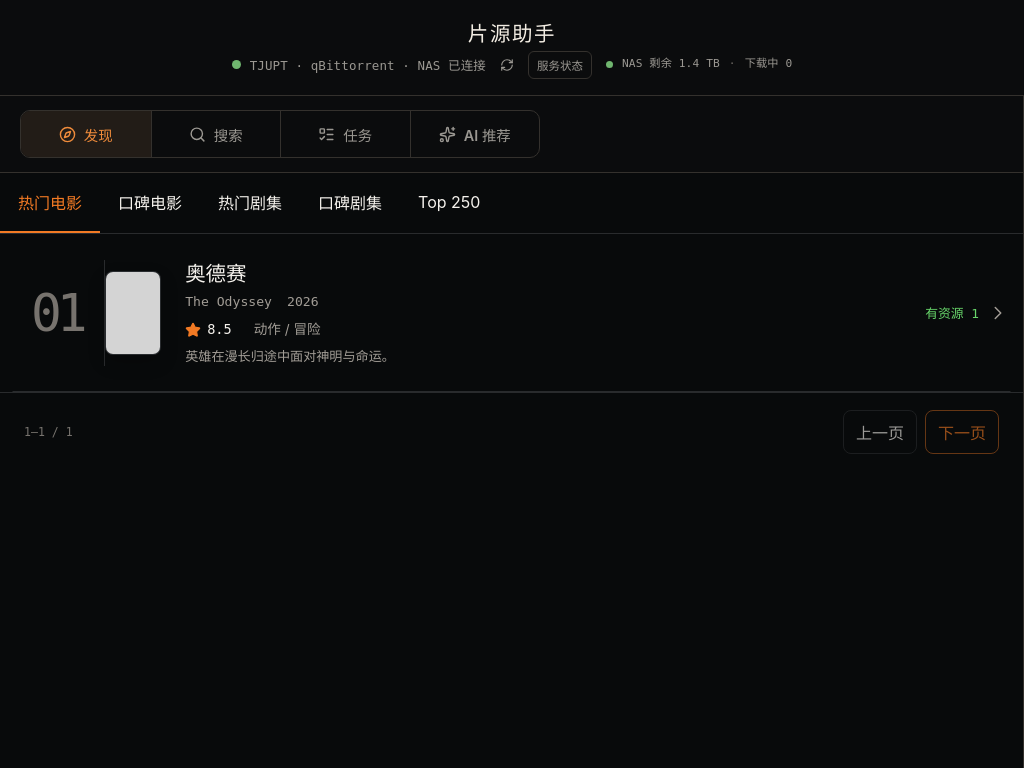
Test case: 片源助手客户端 › opens a read-only service status dialog that separates configured from enabled
Click the button "服务状态" at (560, 64), box x1=528 y1=50 x2=592 y2=78
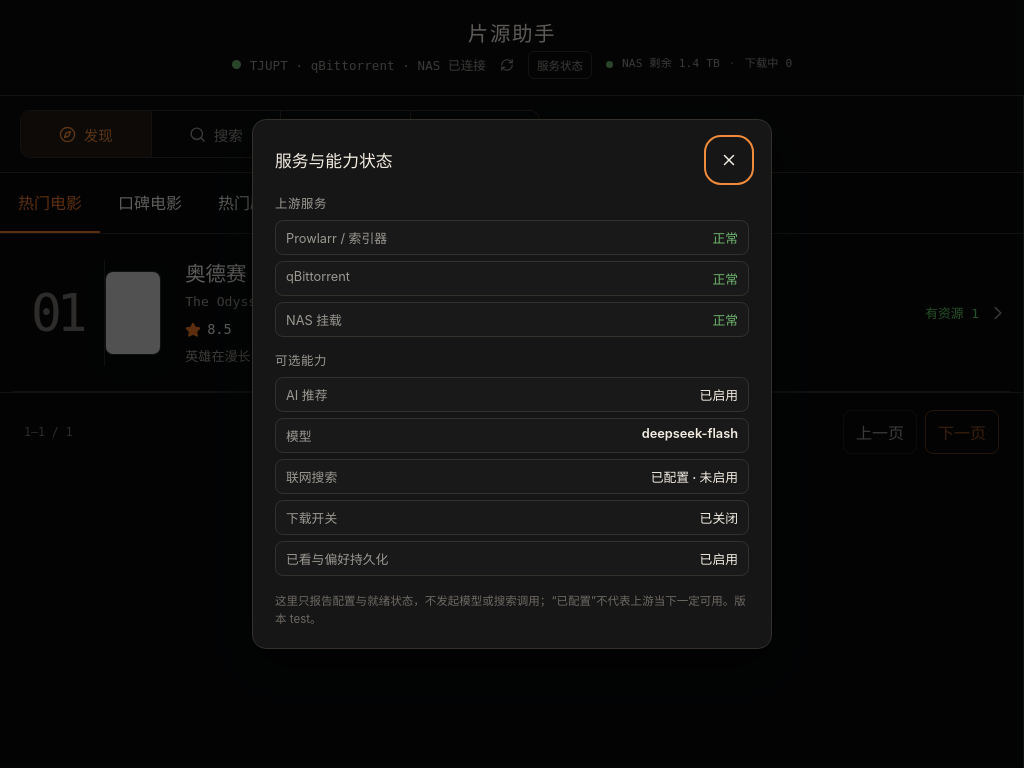
Expected: the text "deepseek-flash" is shown, x1=642 y1=426 x2=738 y2=441
Expected: the list item "AI 推荐" shows "已启用", x1=700 y1=388 x2=738 y2=403
Expected: the list item "联网搜索" shows "已配置 · 未启用", x1=651 y1=470 x2=738 y2=485
Press Escape
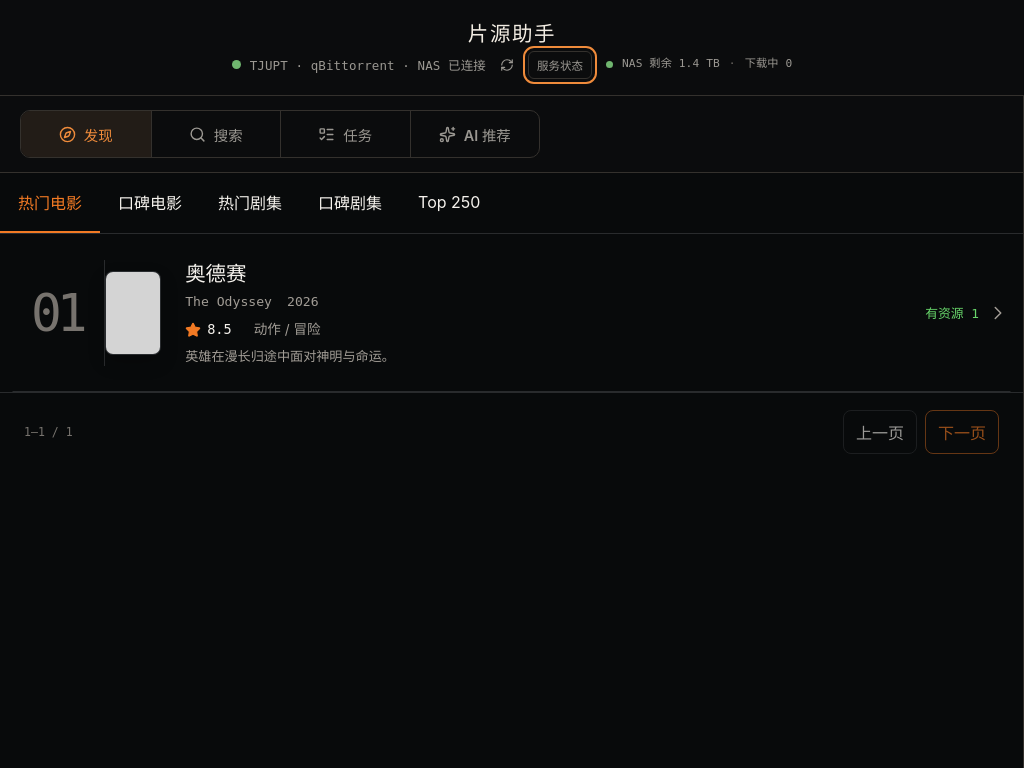
Expected: the dialog is gone
